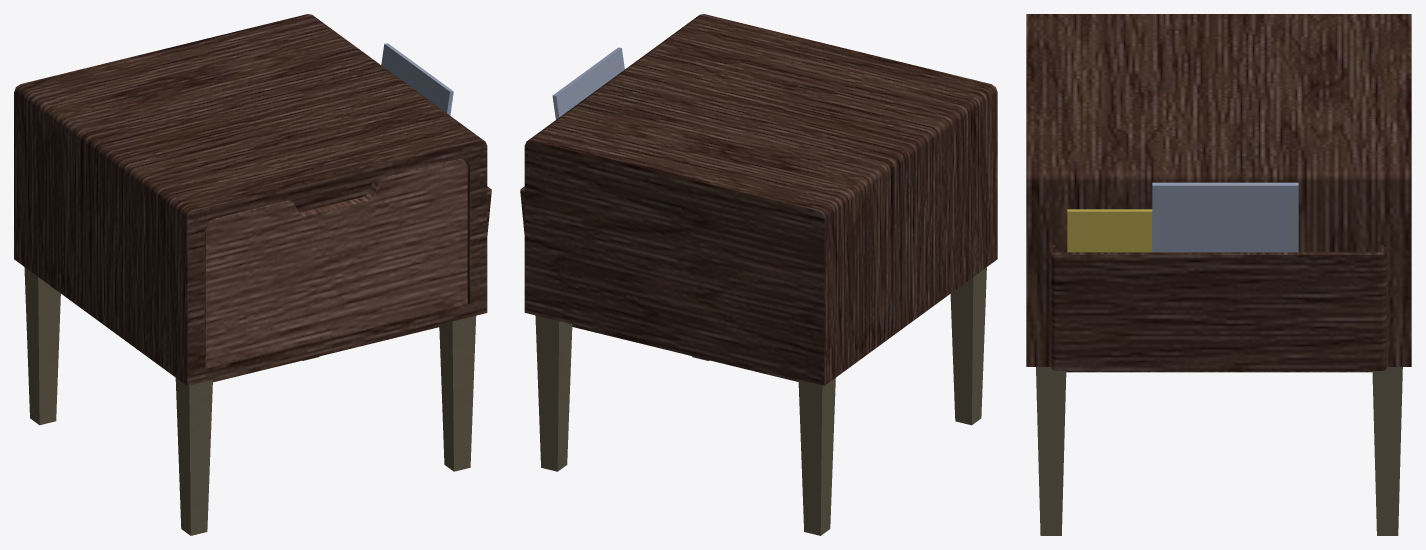
File: end_table_-_wooden_with_magazine_rack.glb
The picture shows the model from 3 angles, left to right: view 1: azimuth 30°, elevation 25°; view 2: azimuth 150°, elevation 25°; view 3: azimuth 270°, elevation 25°; orthographic projection. The views are drawn at different scales.
Parts seen in each view (by area): view 1: Endtable; view 2: Endtable; view 3: Endtable.
Part boxes in pixels (left/top/right/bottom): Endtable: left=14, top=14, right=491, bottom=535; Endtable: left=520, top=14, right=997, bottom=535; Endtable: left=1026, top=14, right=1411, bottom=535.
Bounding box in the file's own units: 0.8023 × 0.7875 × 0.7451.
Materials: 1 (1 with a texture image).
